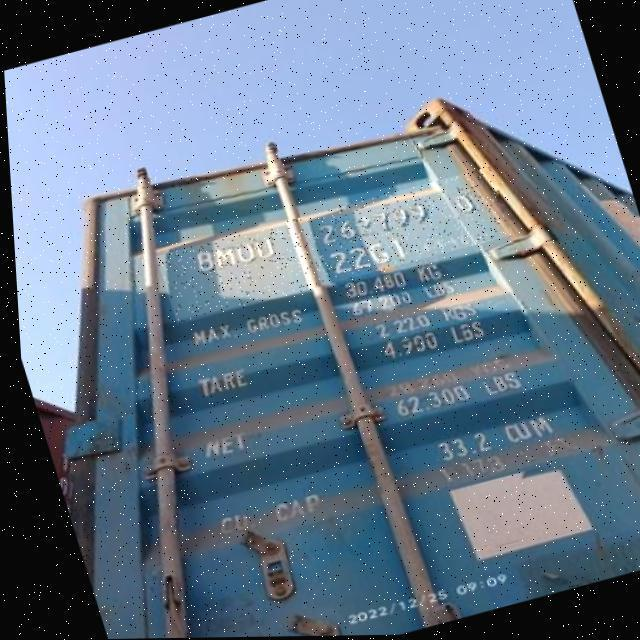container_number_h: (149, 167, 513, 325)
